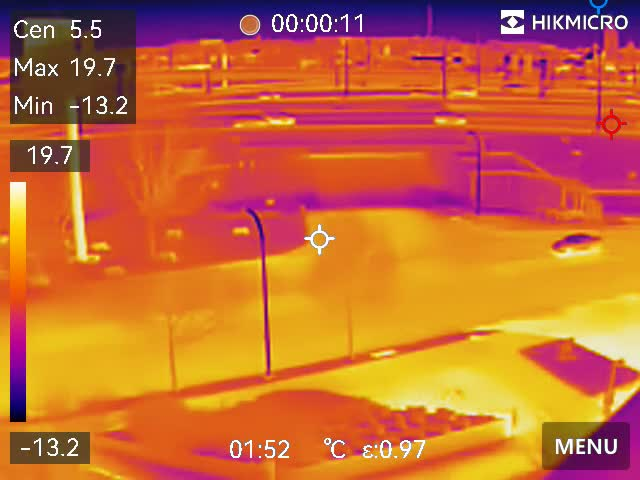smallCar: (550, 233, 601, 254), (433, 110, 467, 131)
vehicle: (228, 117, 265, 132), (450, 84, 480, 101), (253, 89, 281, 104), (265, 115, 299, 127)
